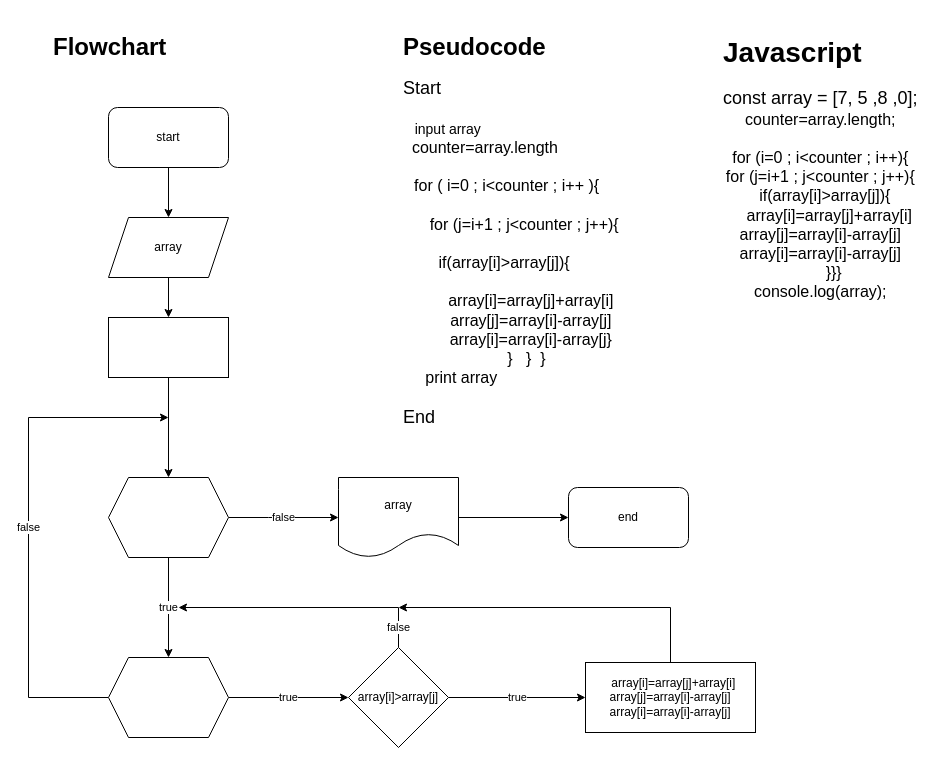
This 946x765 diagram has some shape labels left out. The centre of each missing label's shape, as x and y in pixels:
"counter=array.length" goes at point (168, 347).
"i=0 ; i<counter ; i++" goes at point (168, 517).
"j=i+1 ; j<counter ; j++" goes at point (168, 697).
